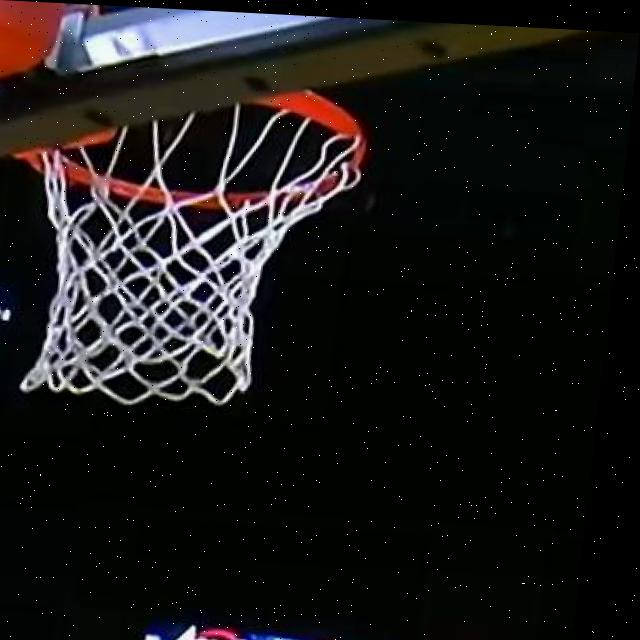hoop: (0, 80, 370, 435)
